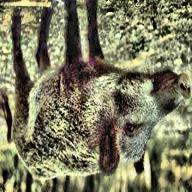boar: (5, 9, 192, 179)
